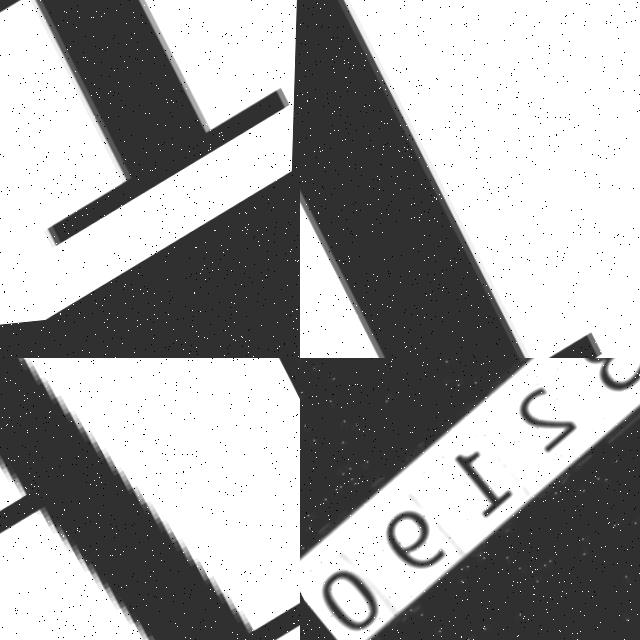0: (304, 541, 401, 640)
1: (433, 420, 536, 539)
2: (501, 365, 595, 474)
3: (562, 358, 640, 424)
9: (370, 486, 466, 597)
F: (0, 0, 300, 358)
I: (300, 0, 626, 358)
R: (0, 358, 300, 640)
